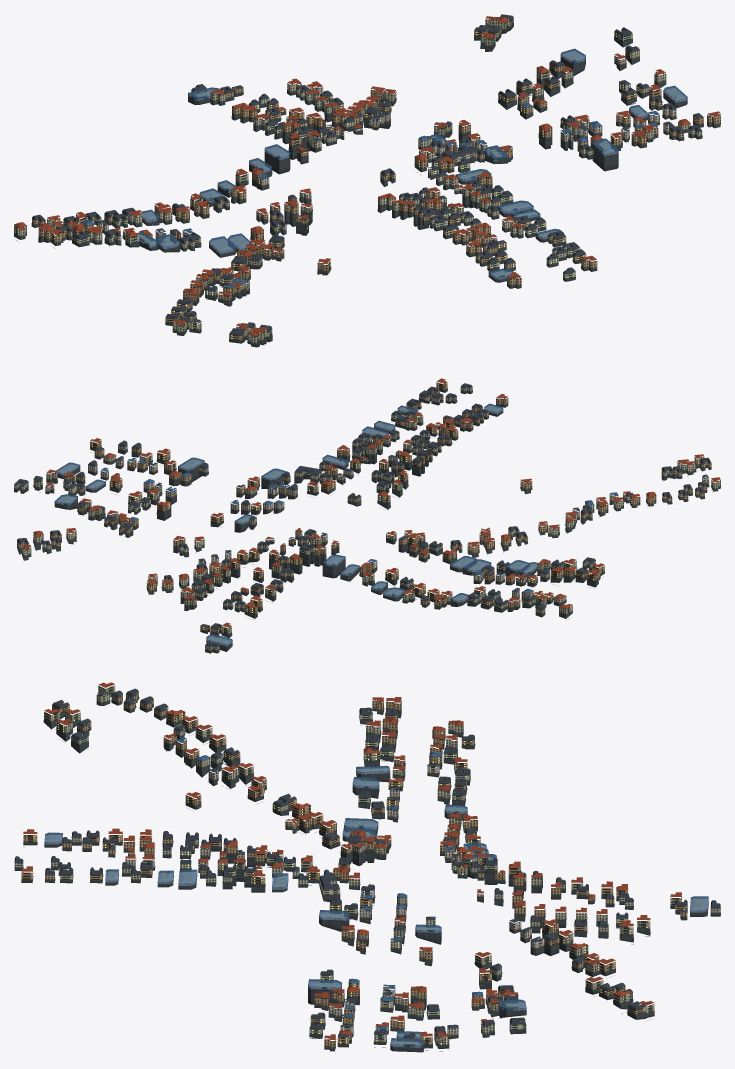
Rendered from osm_buildings_T_W02_N01_Q3.glb.
3 views of the same model, one above another, from view 1: azimuth 30°, elevation 25°; view 2: azimuth 150°, elevation 25°; view 3: azimuth 270°, elevation 25° (orthographic). The views are drawn at different scales.
Visible parts, largest first — view 1: OSM_T_W02_N01_Q3_foundation, OSM_T_W02_N01_Q3_wall_french_ochre, OSM_T_W02_N01_Q3_wall_cream_stucco, OSM_T_W02_N01_Q3_roof_terracotta, OSM_T_W02_N01_Q3_roof_mansard_slate, OSM_T_W02_N01_Q3_greenhouse_blend, OSM_T_W02_N01_Q3_roof_mansard_deck, OSM_T_W02_N01_Q3_trim_cornice, OSM_T_W02_N01_Q3_roof_mint_metal, OSM_T_W02_N01_Q3_window_emissive_warm, OSM_T_W02_N01_Q3_balcony_railing, OSM_T_W02_N01_Q3_wall_warm_white (+2 smaller); view 2: OSM_T_W02_N01_Q3_foundation, OSM_T_W02_N01_Q3_wall_french_ochre, OSM_T_W02_N01_Q3_wall_cream_stucco, OSM_T_W02_N01_Q3_roof_terracotta, OSM_T_W02_N01_Q3_roof_mansard_slate, OSM_T_W02_N01_Q3_greenhouse_blend, OSM_T_W02_N01_Q3_roof_mansard_deck, OSM_T_W02_N01_Q3_roof_mint_metal, OSM_T_W02_N01_Q3_balcony_railing, OSM_T_W02_N01_Q3_trim_cornice, OSM_T_W02_N01_Q3_wall_pastel_sand, OSM_T_W02_N01_Q3_window_emissive_warm (+2 smaller); view 3: OSM_T_W02_N01_Q3_foundation, OSM_T_W02_N01_Q3_wall_french_ochre, OSM_T_W02_N01_Q3_wall_cream_stucco, OSM_T_W02_N01_Q3_roof_terracotta, OSM_T_W02_N01_Q3_roof_mansard_slate, OSM_T_W02_N01_Q3_greenhouse_blend, OSM_T_W02_N01_Q3_roof_mansard_deck, OSM_T_W02_N01_Q3_roof_mint_metal, OSM_T_W02_N01_Q3_trim_cornice, OSM_T_W02_N01_Q3_balcony_railing, OSM_T_W02_N01_Q3_wall_pastel_sand, OSM_T_W02_N01_Q3_window_emissive_warm (+2 smaller).
Boxes of the visible parts, x1,y1,x2,y2 form: OSM_T_W02_N01_Q3_foundation: (14,23,720,347); OSM_T_W02_N01_Q3_wall_french_ochre: (32,18,720,340); OSM_T_W02_N01_Q3_wall_cream_stucco: (14,19,702,343); OSM_T_W02_N01_Q3_roof_terracotta: (14,16,720,335); OSM_T_W02_N01_Q3_roof_mansard_slate: (32,15,703,335); OSM_T_W02_N01_Q3_greenhouse_blend: (137,48,687,279); OSM_T_W02_N01_Q3_roof_mansard_deck: (34,14,700,332); OSM_T_W02_N01_Q3_trim_cornice: (16,19,720,341); OSM_T_W02_N01_Q3_roof_mint_metal: (14,22,720,344); OSM_T_W02_N01_Q3_window_emissive_warm: (18,30,681,338); OSM_T_W02_N01_Q3_balcony_railing: (14,19,716,338); OSM_T_W02_N01_Q3_wall_warm_white: (97,107,676,290); OSM_T_W02_N01_Q3_foundation: (14,389,720,653); OSM_T_W02_N01_Q3_wall_french_ochre: (17,380,711,633); OSM_T_W02_N01_Q3_wall_cream_stucco: (14,387,720,650); OSM_T_W02_N01_Q3_roof_terracotta: (21,378,720,627); OSM_T_W02_N01_Q3_roof_mansard_slate: (14,384,711,646); OSM_T_W02_N01_Q3_greenhouse_blend: (54,403,537,646); OSM_T_W02_N01_Q3_roof_mansard_deck: (15,383,709,645); OSM_T_W02_N01_Q3_roof_mint_metal: (15,388,720,651); OSM_T_W02_N01_Q3_balcony_railing: (22,384,712,632); OSM_T_W02_N01_Q3_trim_cornice: (14,387,720,648); OSM_T_W02_N01_Q3_wall_pastel_sand: (45,457,566,602); OSM_T_W02_N01_Q3_window_emissive_warm: (23,383,688,641); OSM_T_W02_N01_Q3_foundation: (14,694,720,1052); OSM_T_W02_N01_Q3_wall_french_ochre: (21,692,687,1047); OSM_T_W02_N01_Q3_wall_cream_stucco: (14,685,720,1044); OSM_T_W02_N01_Q3_roof_terracotta: (21,682,681,1039); OSM_T_W02_N01_Q3_roof_mansard_slate: (14,689,720,1038); OSM_T_W02_N01_Q3_greenhouse_blend: (44,765,708,1047); OSM_T_W02_N01_Q3_roof_mansard_deck: (16,688,719,1046); OSM_T_W02_N01_Q3_roof_mint_metal: (15,694,720,1048); OSM_T_W02_N01_Q3_trim_cornice: (15,686,720,1051); OSM_T_W02_N01_Q3_balcony_railing: (14,688,710,1043); OSM_T_W02_N01_Q3_wall_pastel_sand: (340,729,544,1035); OSM_T_W02_N01_Q3_window_emissive_warm: (26,691,701,1045).
Bounding box in the file's own units: 966 × 103 × 881.
Materials: 16 (16 with a texture image).
